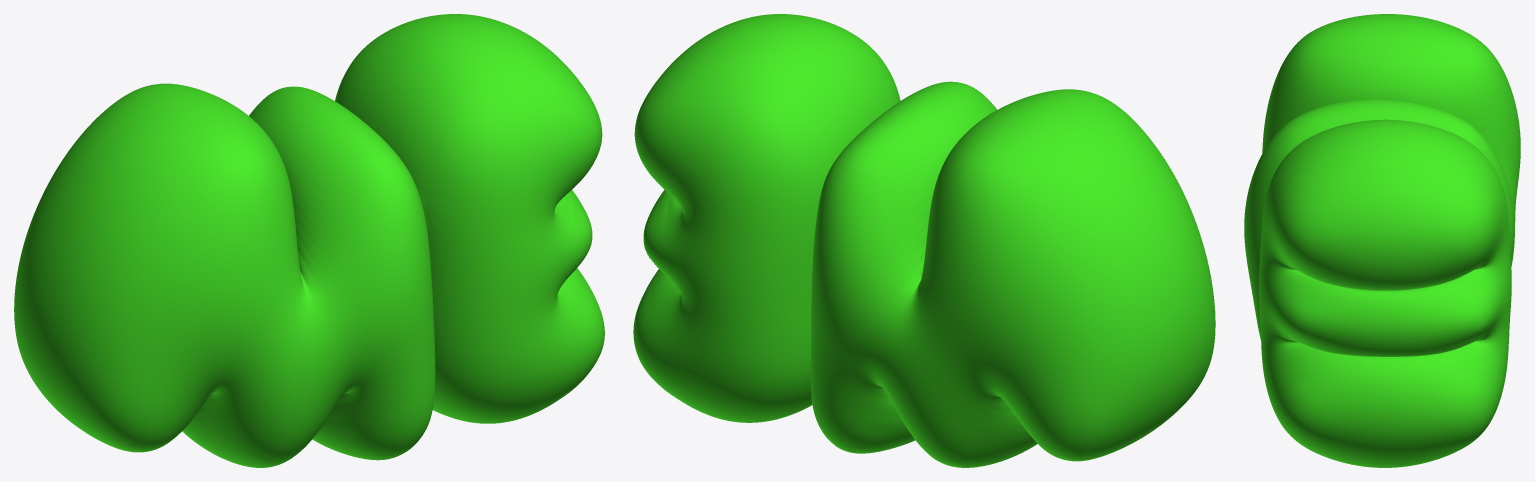
3 renders of one model, left to right at view 1: azimuth 30°, elevation 25°; view 2: azimuth 150°, elevation 25°; view 3: azimuth 270°, elevation 25°, orthographic. The views are drawn at different scales.
Visible parts, largest first — view 1: Text.002; view 2: Text.002; view 3: Text.002.
Boxes of the visible parts, x1,y1,x2,y2 form: Text.002: (14,14,604,467); Text.002: (633,14,1215,467); Text.002: (1244,14,1520,467).
Size of the model in its own units: 13.87 by 9.48 by 7.3.
